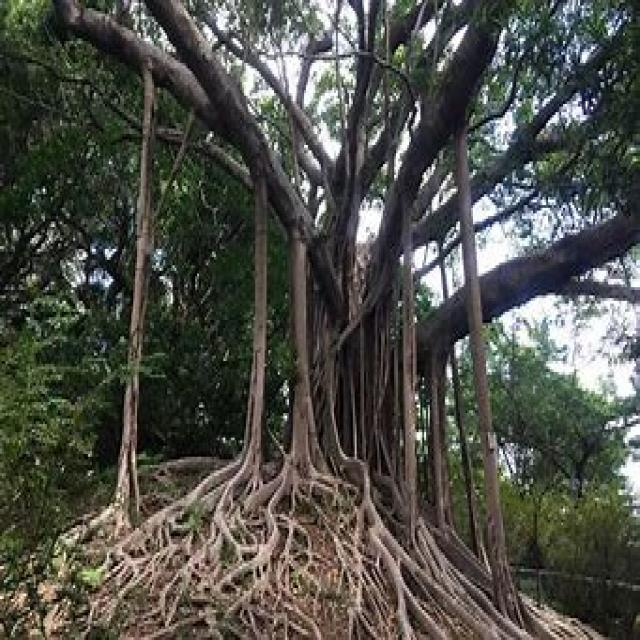Banyan-Tree: (0, 0, 640, 640), (127, 42, 565, 640)
